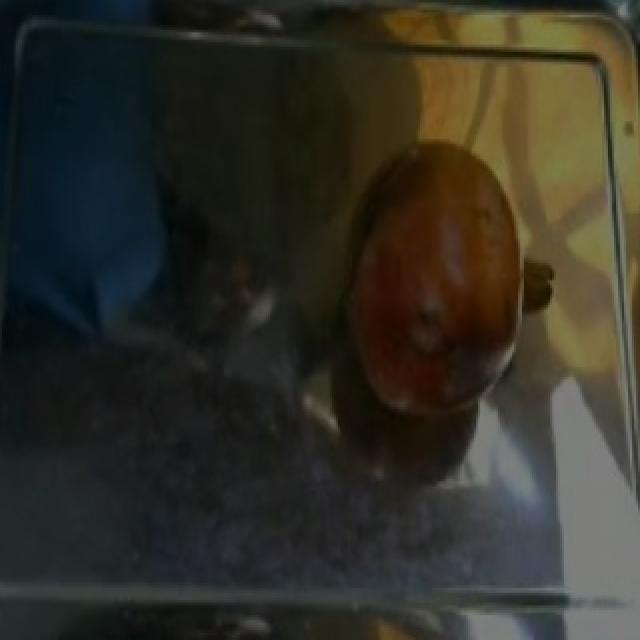fruit: (330, 121, 538, 412)
